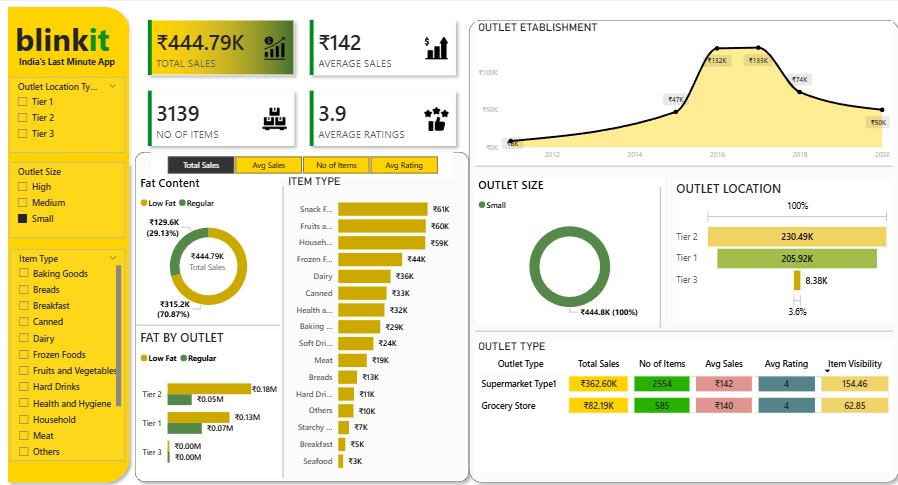

The page's visual inventory and layout, read from the dashboard file:
{"tool":"powerbi","page":{"name":"Page 1","canvas":[1400,800],"ordinal":0},"visuals":[{"type":"shape","box":[10,0,205,750],"z":0},{"type":"textbox","box":[26.8,20.5,159.1,75.6],"z":1000},{"type":"textbox","box":[15.7,80.3,190.6,31.5],"z":2000},{"type":"cardVisual","fields":{"Data":["BlinkIT Grocery Data.Total Sales","BlinkIT Grocery Data.Avg Sales","BlinkIT Grocery Data.No of Items","BlinkIT Grocery Data.Avg Rating"]},"box":[206.3,0,532.3,253.5],"z":3000},{"type":"shape","box":[206.3,223.6,532.3,526],"z":4000},{"type":"donutChart","title":"Fat Content","fields":{"Y":["BlinkIT Grocery Data.Total Sales"],"Category":["BlinkIT Grocery Data.Item Fat Content"]},"box":[218.3,268.3,220,230],"z":5000},{"type":"slicer","fields":{"Values":["Metrics 3.Metrics"]},"box":[239.4,233.1,464.6,39.4],"z":6000},{"type":"cardVisual","fields":{"Data":["BlinkIT Grocery Data.Total Sales"]},"box":[268.3,365,118.3,71.7],"z":7000},{"type":"clusteredBarChart","title":"FAT BY OUTLET","fields":{"Y":["BlinkIT Grocery Data.Total Sales"],"Category":["BlinkIT Grocery Data.Outlet Location Type"],"Series":["BlinkIT Grocery Data.Item Fat Content"]},"box":[218.9,503.9,220.5,229.9],"z":8000},{"type":"shape","box":[216.7,455,221.7,86.7],"z":9000},{"type":"shape","box":[434.6,285,15.7,448.8],"z":10000},{"type":"barChart","title":"ITEM TYPE","fields":{"Y":["BlinkIT Grocery Data.Total Sales"],"Category":["BlinkIT Grocery Data.Item Type"]},"box":[445.7,267.7,274,466.1],"z":11000},{"type":"shape","box":[720,20,680,730],"z":12000},{"type":"lineChart","title":"OUTLET ETABLISHMENT","fields":{"Y":["BlinkIT Grocery Data.Total Sales"],"Category":["BlinkIT Grocery Data.Outlet Establishment Year"]},"box":[738.3,30,643.3,223.3],"z":13000},{"type":"donutChart","title":"OUTLET SIZE","fields":{"Y":["BlinkIT Grocery Data.Total Sales"],"Category":["BlinkIT Grocery Data.Outlet Size"]},"box":[738.3,270,291.7,225],"z":14000},{"type":"shape","box":[1016.7,286.7,13.3,216.7],"z":15000},{"type":"funnel","title":"OUTLET LOCATION","fields":{"Category":["BlinkIT Grocery Data.Outlet Location Type"],"Y":["Sum(BlinkIT Grocery Data.Sales)"]},"box":[1043.3,275,338.3,216.7],"z":16000},{"type":"shape","box":[738.3,465,643.3,86.7],"z":17000},{"type":"pivotTable","title":"OUTLET TYPE","fields":{"Rows":["BlinkIT Grocery Data.Outlet Type"],"Values":["BlinkIT Grocery Data.Total Sales","BlinkIT Grocery Data.No of Items","BlinkIT Grocery Data.Avg Sales","BlinkIT Grocery Data.Avg Rating","Sum(BlinkIT Grocery Data.Item Visibility)"]},"box":[738.3,521.7,643.3,201.7],"z":18000},{"type":"shape","box":[738.3,210,643.3,86.7],"z":19000},{"type":"slicer","fields":{"Values":["BlinkIT Grocery Data.Outlet Location Type"]},"box":[21.7,116.7,178.3,116.7],"z":20000},{"type":"slicer","fields":{"Values":["BlinkIT Grocery Data.Outlet Size"]},"box":[21.7,248.3,178.3,116.7],"z":21000},{"type":"slicer","fields":{"Values":["BlinkIT Grocery Data.Item Type"]},"box":[23.3,381.7,176.7,341.7],"z":22000}]}

Visuals, with their boxes on the page's 1400x800 design canvas (x1, y1, x2, y2). These are canvas units, not pixel positions in the 898x485 screenshot, which may show the page scaled, cropped or inside an application window:
shape: <box>10,0,215,750</box>
textbox: <box>27,20,186,96</box>
textbox: <box>16,80,206,112</box>
cardVisual - BlinkIT Grocery Data.Total Sales x BlinkIT Grocery Data.Avg Sales: <box>206,0,739,254</box>
shape: <box>206,224,739,750</box>
"Fat Content" donutChart: <box>218,268,438,498</box>
slicer - Metrics 3.Metrics: <box>239,233,704,272</box>
cardVisual - BlinkIT Grocery Data.Total Sales: <box>268,365,387,437</box>
"FAT BY OUTLET" clusteredBarChart: <box>219,504,439,734</box>
shape: <box>217,455,438,542</box>
shape: <box>435,285,450,734</box>
"ITEM TYPE" barChart: <box>446,268,720,734</box>
shape: <box>720,20,1400,750</box>
"OUTLET ETABLISHMENT" lineChart: <box>738,30,1382,253</box>
"OUTLET SIZE" donutChart: <box>738,270,1030,495</box>
shape: <box>1017,287,1030,503</box>
"OUTLET LOCATION" funnel: <box>1043,275,1382,492</box>
shape: <box>738,465,1382,552</box>
"OUTLET TYPE" pivotTable: <box>738,522,1382,723</box>
shape: <box>738,210,1382,297</box>
slicer - BlinkIT Grocery Data.Outlet Location Type: <box>22,117,200,233</box>
slicer - BlinkIT Grocery Data.Outlet Size: <box>22,248,200,365</box>
slicer - BlinkIT Grocery Data.Item Type: <box>23,382,200,723</box>
